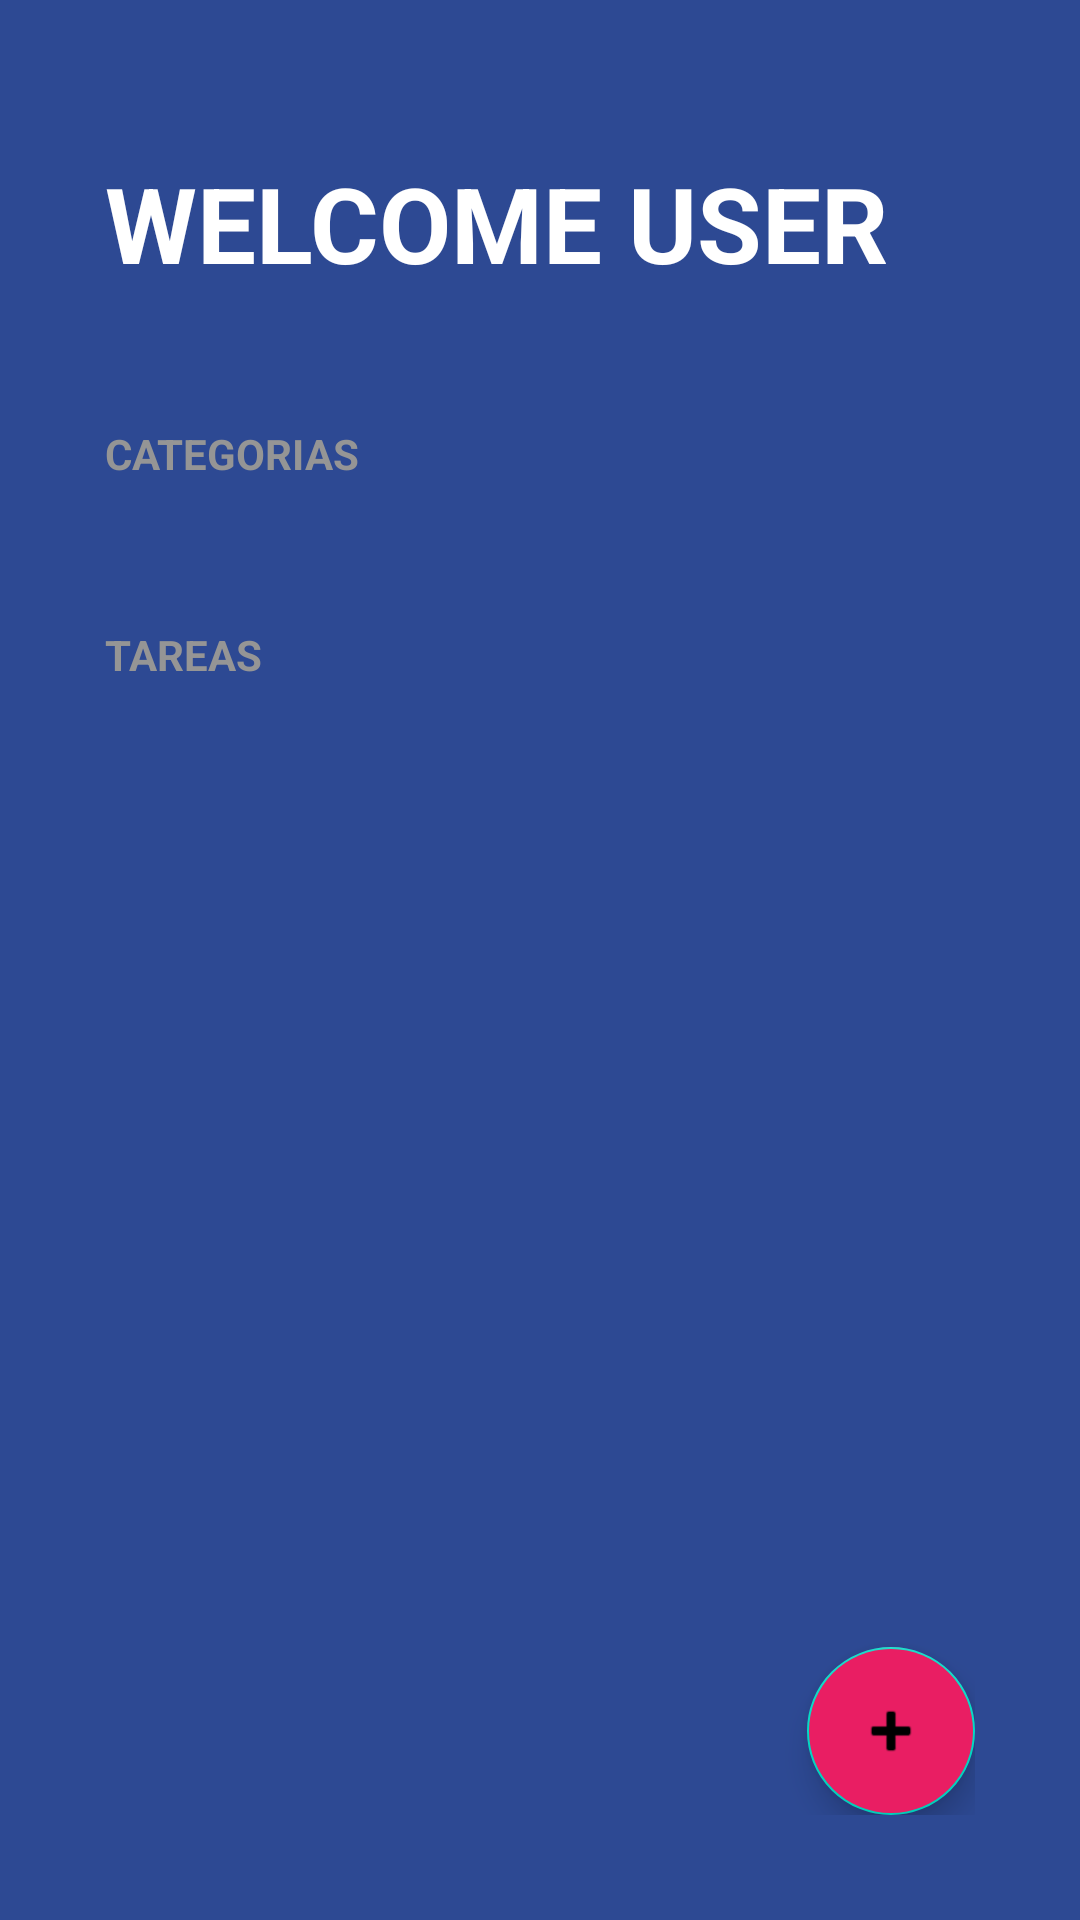

Screen size 1080×1920. Icon name, then its center in pixels as [x,y]:
plus: [891,1731]
